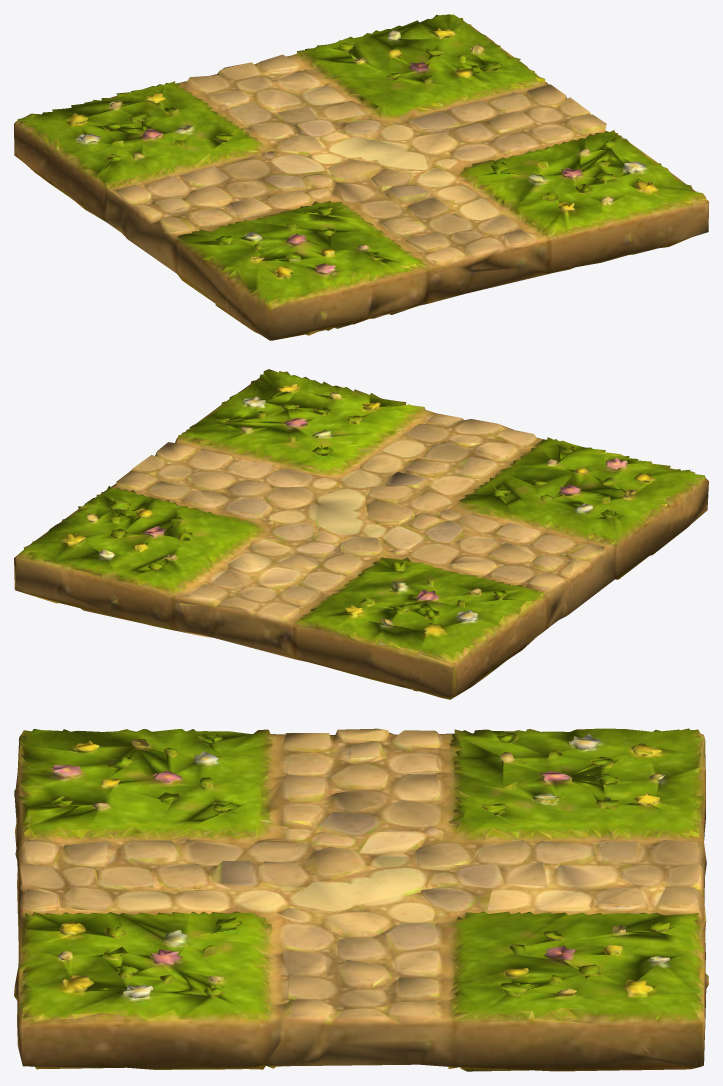
Rendered from path-cross.glb.
The picture shows the model from 3 angles, top to bottom: view 1: azimuth 30°, elevation 25°; view 2: azimuth 150°, elevation 25°; view 3: azimuth 270°, elevation 25°; orthographic projection. The views are drawn at different scales.
Visible parts, largest first — view 1: Mesh1.0; view 2: Mesh1.0; view 3: Mesh1.0.
Boxes of the visible parts, x1,y1,x2,y2 form: Mesh1.0: (14,14,708,340); Mesh1.0: (14,369,708,699); Mesh1.0: (14,728,708,1071).
Size of the model in its own units: 1.9 by 0.2059 by 1.9.
Materials: 1 (1 with a texture image).
